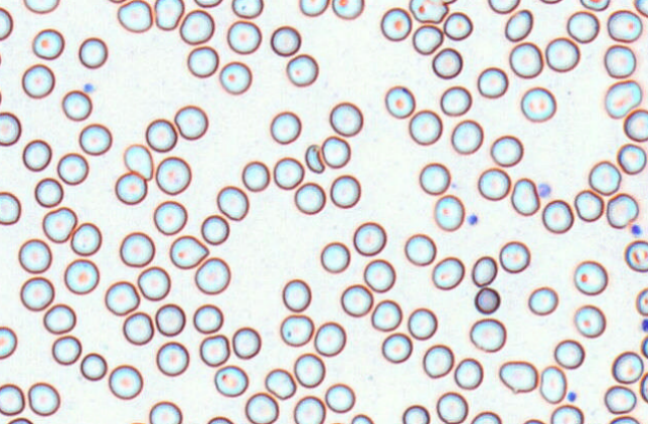PLT: (535, 182, 552, 198), (81, 81, 95, 94), (632, 224, 644, 238), (640, 318, 648, 335), (467, 213, 477, 225), (568, 391, 578, 402)
RBC: (604, 79, 642, 118), (155, 155, 191, 195), (194, 256, 230, 294), (169, 234, 208, 269), (63, 258, 99, 294), (520, 86, 556, 122), (469, 317, 506, 352), (42, 206, 77, 243), (498, 360, 537, 393), (104, 280, 140, 315), (119, 231, 154, 267), (545, 36, 580, 72), (509, 41, 543, 78), (108, 364, 143, 399), (179, 9, 214, 44), (408, 109, 442, 145), (174, 104, 208, 140), (21, 63, 55, 98), (20, 276, 54, 311), (153, 200, 187, 235), (155, 341, 189, 376), (226, 20, 261, 54), (18, 238, 52, 273), (329, 101, 363, 136), (573, 260, 607, 295), (137, 265, 170, 301), (27, 381, 60, 416), (313, 321, 346, 356), (216, 185, 249, 220), (588, 160, 621, 195), (353, 221, 386, 256), (607, 9, 642, 42), (450, 119, 483, 154), (293, 352, 325, 388), (433, 194, 464, 231), (510, 177, 540, 215), (340, 283, 373, 317), (431, 256, 464, 290), (219, 60, 252, 94), (603, 44, 636, 78), (213, 365, 248, 397), (117, 0, 152, 32), (606, 193, 638, 228), (123, 143, 153, 180), (114, 171, 147, 204), (285, 53, 318, 86), (477, 167, 510, 200), (566, 10, 599, 43), (490, 134, 523, 167), (122, 311, 154, 345), (422, 344, 454, 378), (573, 304, 605, 338), (279, 314, 313, 346), (363, 258, 395, 292), (145, 118, 177, 152), (78, 123, 112, 155), (541, 199, 573, 233), (269, 110, 301, 144), (539, 365, 567, 403), (56, 152, 88, 185), (404, 233, 436, 266), (498, 240, 530, 273), (418, 162, 450, 195), (244, 392, 278, 423), (380, 7, 411, 41), (329, 174, 360, 208), (611, 351, 643, 383), (436, 391, 468, 423), (186, 45, 218, 77), (43, 303, 76, 334), (154, 303, 185, 336), (70, 222, 101, 255), (273, 156, 304, 189), (294, 181, 325, 214), (384, 85, 415, 118), (281, 278, 311, 312), (264, 368, 296, 399), (199, 334, 230, 366), (61, 89, 92, 121), (371, 299, 402, 331), (431, 47, 462, 79), (32, 28, 64, 59), (439, 85, 471, 116), (477, 66, 508, 98), (320, 135, 350, 168), (407, 307, 437, 340), (231, 326, 261, 359), (574, 189, 604, 222), (553, 338, 584, 369), (381, 332, 412, 363), (324, 382, 355, 413), (270, 25, 301, 56), (453, 357, 483, 389), (320, 241, 350, 273), (78, 36, 108, 68), (51, 334, 81, 365), (412, 24, 443, 54), (192, 303, 223, 333), (616, 143, 646, 174), (604, 384, 636, 413), (504, 9, 533, 41), (22, 139, 51, 171), (200, 214, 229, 245), (527, 286, 558, 315), (241, 160, 270, 191), (293, 395, 325, 423), (409, 0, 447, 23), (154, 0, 183, 30), (34, 177, 63, 207), (443, 11, 472, 40), (0, 383, 25, 416), (471, 255, 497, 286), (623, 108, 647, 141), (80, 352, 107, 381), (148, 400, 182, 423), (624, 239, 647, 272), (0, 111, 21, 146), (474, 286, 500, 314), (0, 191, 21, 225), (550, 404, 583, 423), (331, 0, 364, 19), (0, 325, 17, 359), (231, 0, 263, 18), (401, 404, 429, 423), (298, 0, 329, 16), (23, 0, 60, 13), (0, 6, 13, 41), (487, 0, 519, 14), (470, 410, 501, 423), (635, 287, 647, 316), (579, 0, 610, 11), (640, 371, 648, 403), (608, 415, 640, 423), (350, 413, 374, 423), (634, 0, 648, 17), (206, 415, 233, 423), (193, 0, 222, 7), (6, 417, 33, 423), (641, 335, 648, 358), (521, 418, 546, 423), (538, 0, 563, 4), (441, 0, 458, 4), (106, 0, 127, 3), (0, 80, 2, 108)
Schistocyte: (305, 144, 325, 174)
